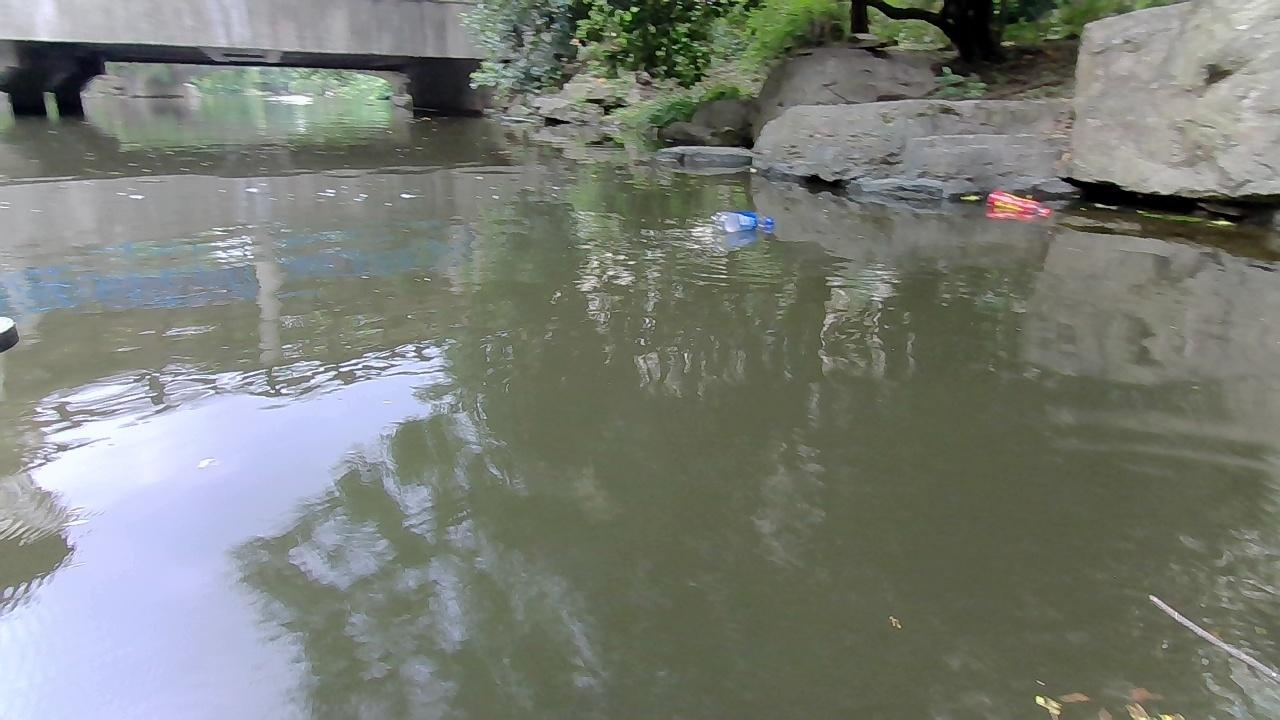bottle: (986, 190, 1053, 218), (707, 209, 776, 230)
